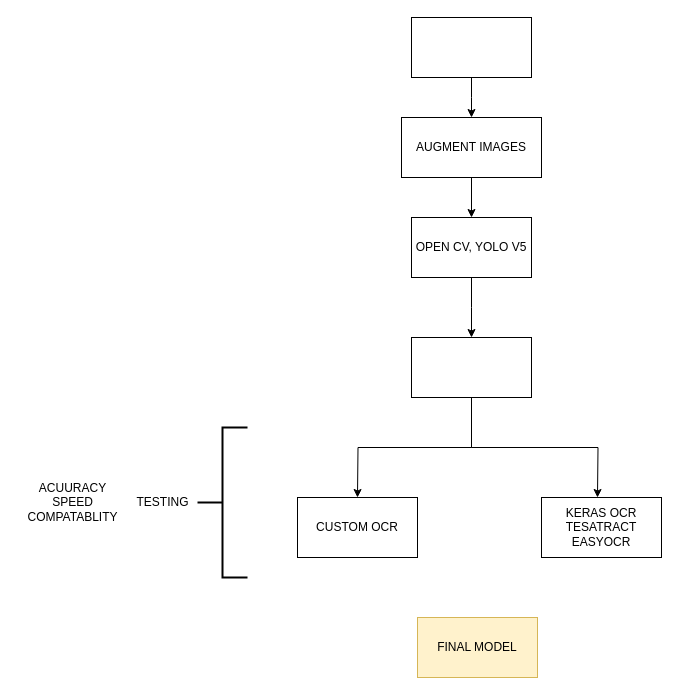
Some shapes in this 679 by 695 pixel diagram are drawn without their labels. The centre of each missing label's shape, as x and y in pixels:
"30 SAMPLE IMAGE" belongs at [471,47].
"TEST" belongs at [471,367].
